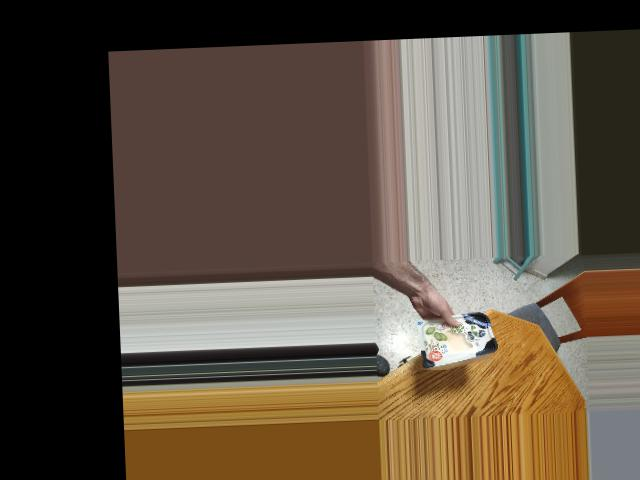cheese: (430, 304, 489, 368)
